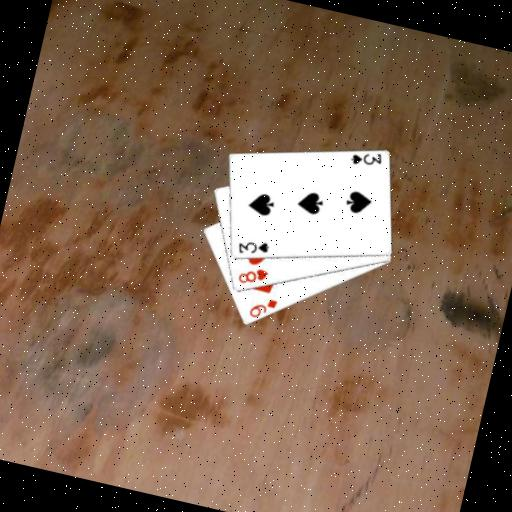3S: (233, 234, 272, 262), (347, 145, 386, 172)
8H: (234, 262, 271, 291)
9D: (245, 292, 280, 325)
